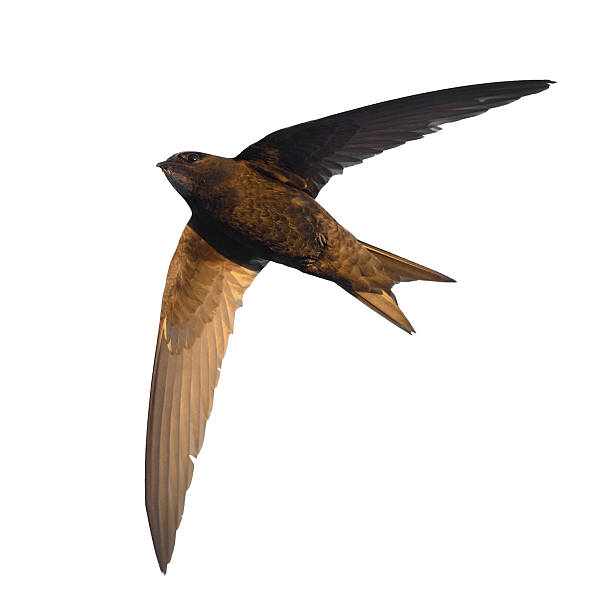Bird: (140, 71, 558, 585)
